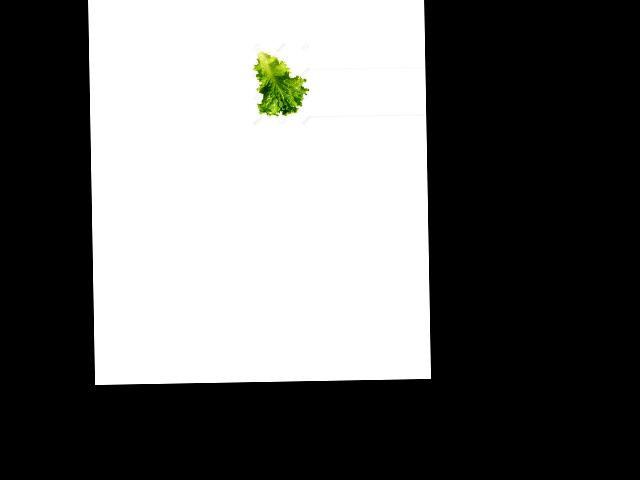lettuce: (256, 50, 308, 116)
